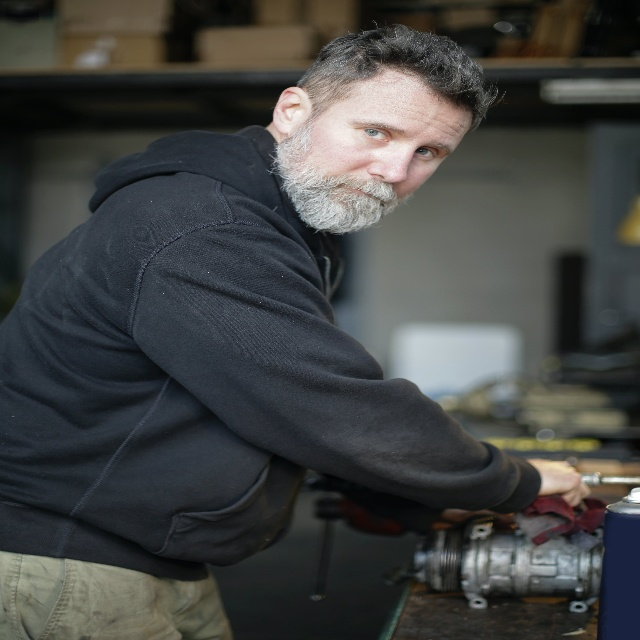Sin_guantes: (528, 455, 591, 505)
